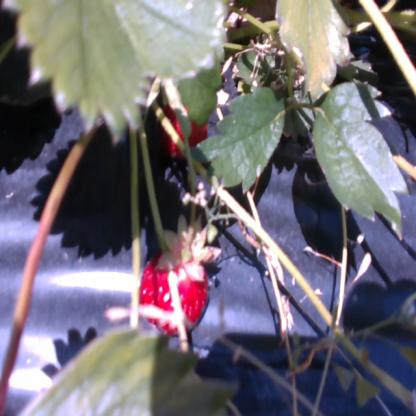ripe: (138, 239, 215, 333), (158, 89, 216, 157)
